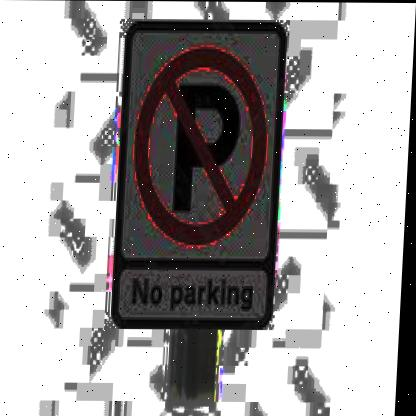No parking: (130, 49, 274, 245)
